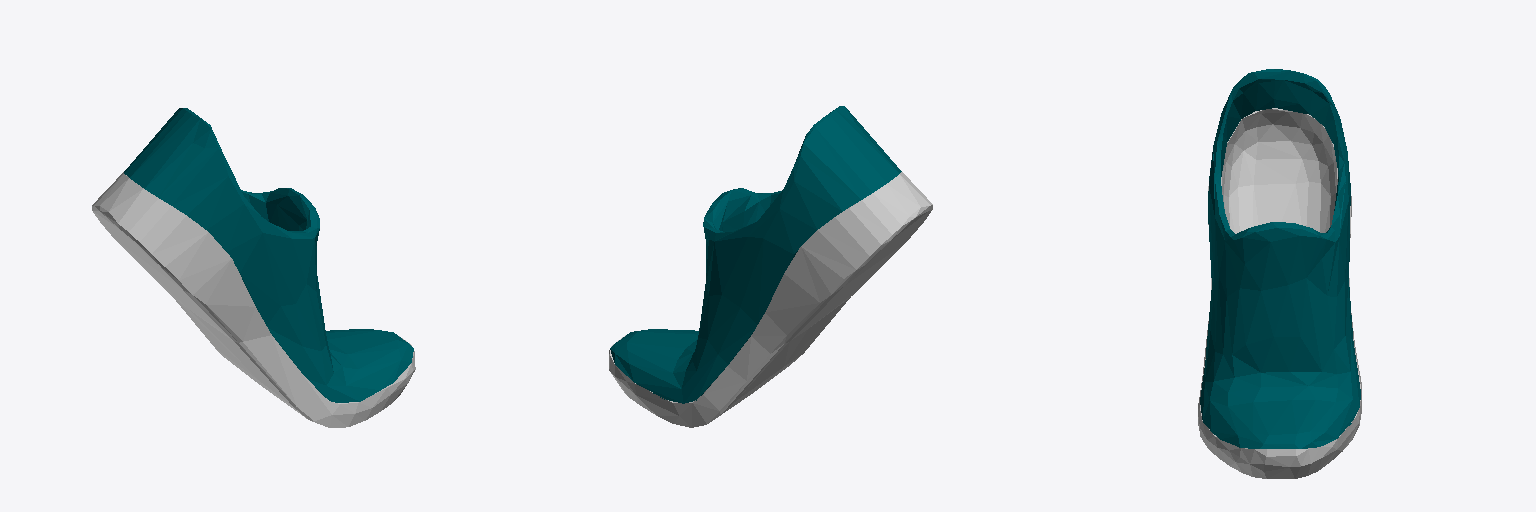
The model's file is main-shoes-cyan.obj.
3 renders of one model, left to right at view 1: azimuth 30°, elevation 25°; view 2: azimuth 150°, elevation 25°; view 3: azimuth 270°, elevation 25°, orthographic.
Visible parts, largest first — view 1: SHOES2_Cube.002, SHOES_Cube; view 2: SHOES2_Cube.002, SHOES_Cube; view 3: SHOES2_Cube.002, SHOES_Cube.
Part boxes in pixels (bbox=[...]): SHOES2_Cube.002: bbox=[124, 108, 413, 402]; SHOES_Cube: bbox=[92, 172, 415, 427]; SHOES2_Cube.002: bbox=[610, 106, 901, 403]; SHOES_Cube: bbox=[609, 172, 932, 427]; SHOES2_Cube.002: bbox=[1200, 69, 1360, 448]; SHOES_Cube: bbox=[1198, 108, 1361, 478].
Bounding box in the file's own units: 10.32 × 10.22 × 4.86.